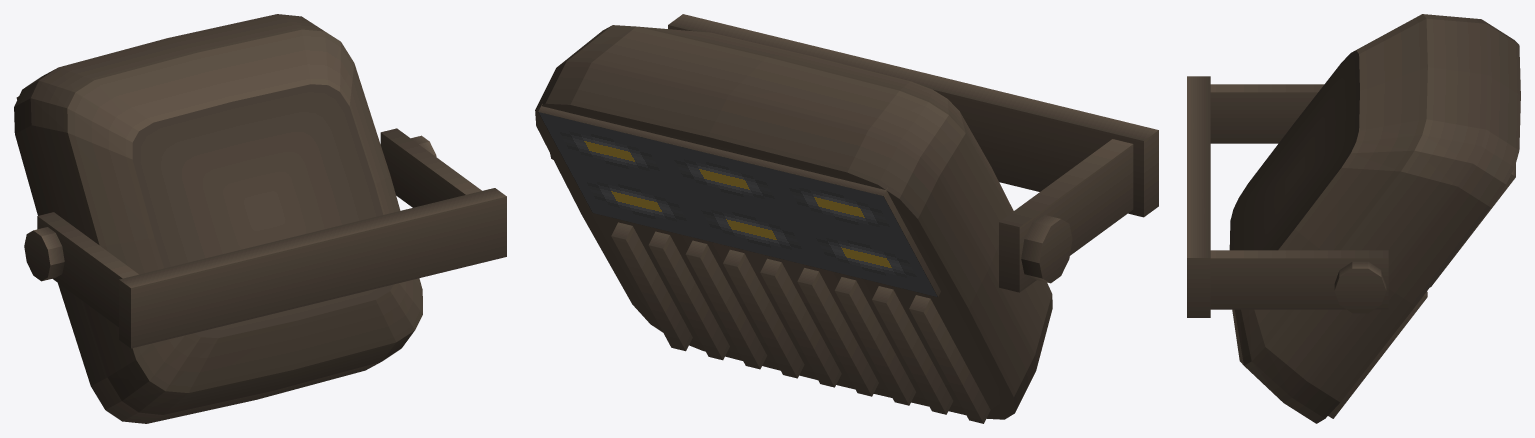
File: floodlight_lithdsxf3yk.obj
3 views of the same model, side by side, from view 1: azimuth 30°, elevation 25°; view 2: azimuth 150°, elevation 25°; view 3: azimuth 270°, elevation 25° (orthographic). The views are drawn at different scales.
Parts seen in each view (by area): view 1: fixture; view 2: fixture; view 3: fixture.
Boxes of the visible parts, left/top/right/bottom form: fixture: left=14, top=14, right=506, bottom=423; fixture: left=535, top=14, right=1158, bottom=423; fixture: left=1187, top=14, right=1520, bottom=423.
Bounding box in the file's own units: 0.5893 × 0.4404 × 0.4426.
